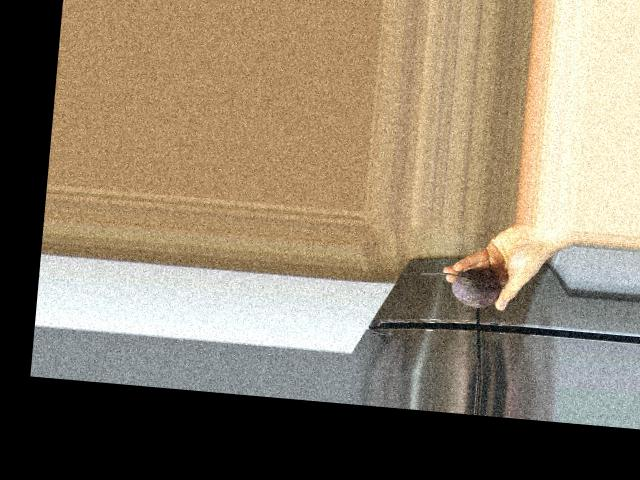beet: (418, 264, 502, 309)
